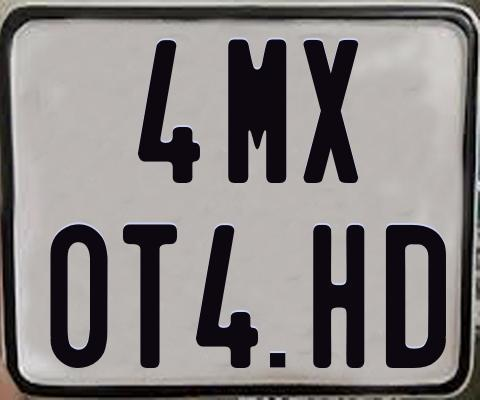0: (48, 221, 111, 366)
4: (136, 40, 203, 186), (196, 223, 258, 370)
D: (386, 222, 446, 366)
H: (312, 222, 368, 369)
M: (227, 37, 291, 182)
T: (120, 223, 179, 367)
X: (303, 40, 364, 183)
